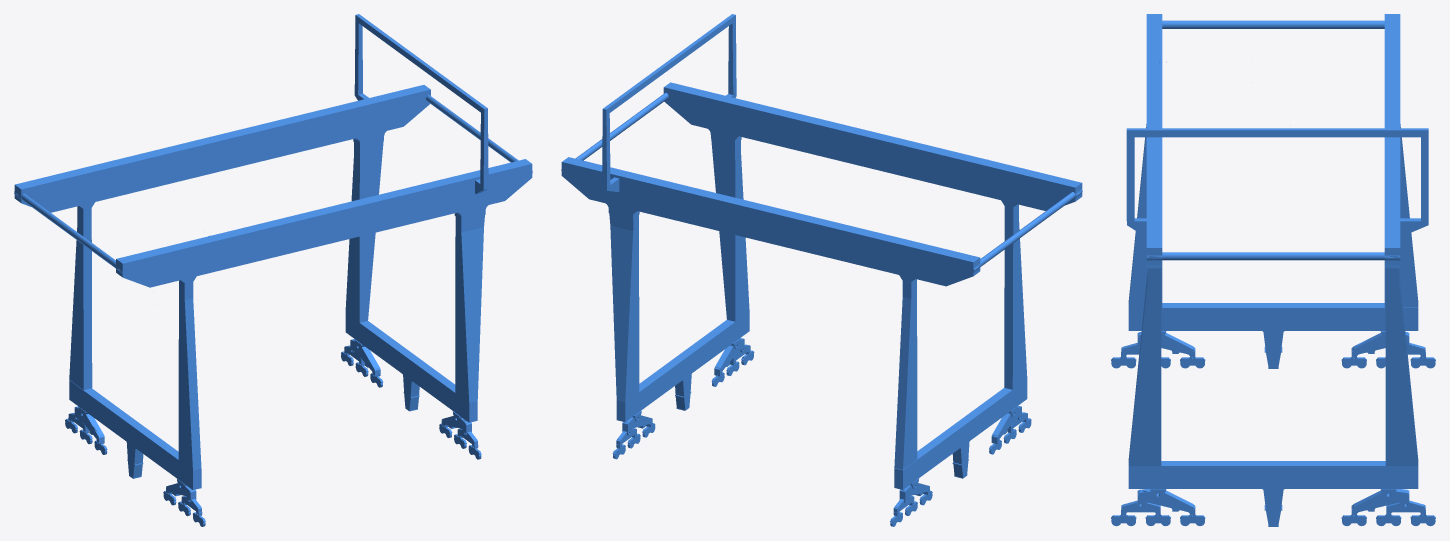
Rendered from dbchangqiao.glb.
The picture shows the model from 3 angles, left to right: view 1: azimuth 30°, elevation 25°; view 2: azimuth 150°, elevation 25°; view 3: azimuth 270°, elevation 25°; orthographic projection. The views are drawn at different scales.
Parts seen in each view (by area): view 1: dbchangqiao; view 2: dbchangqiao; view 3: dbchangqiao.
Part boxes in pixels (x1,y1,x2,y2): dbchangqiao: (14, 14, 532, 526); dbchangqiao: (561, 14, 1082, 526); dbchangqiao: (1111, 14, 1435, 526).
Size of the model in its own units: 24.21 by 19.41 by 14.16.
